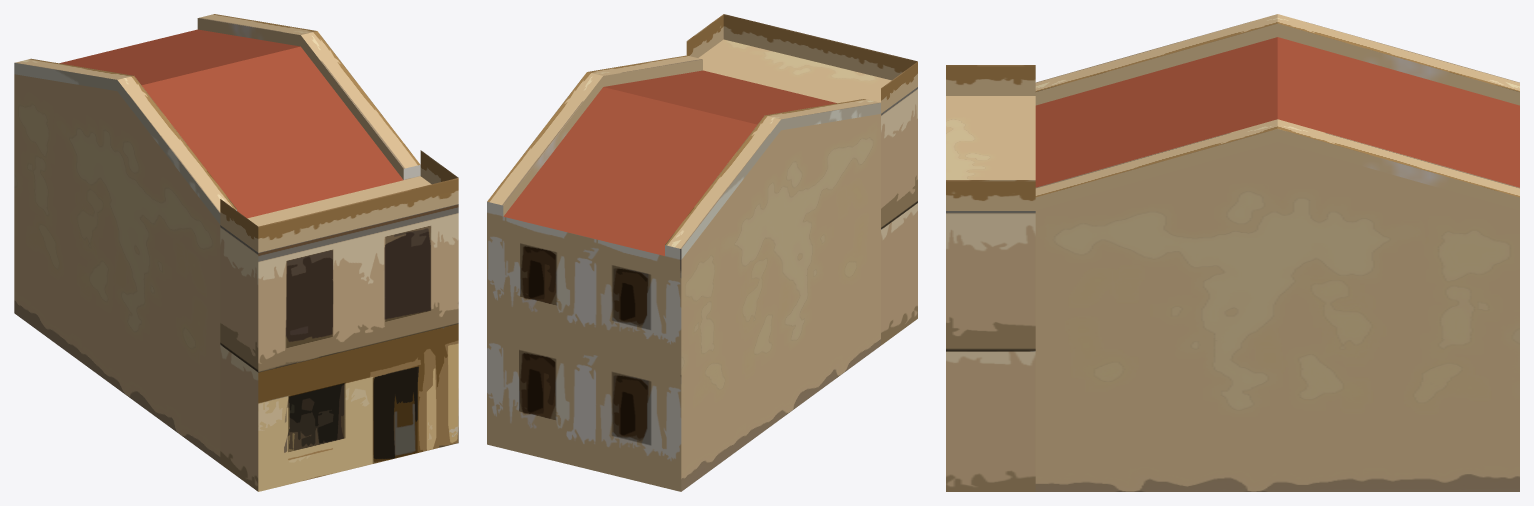
The model's file is SM_Building_Large_07.fbx.
The picture shows the model from 3 angles, left to right: view 1: azimuth 30°, elevation 25°; view 2: azimuth 150°, elevation 25°; view 3: azimuth 270°, elevation 25°; orthographic projection. The views are drawn at different scales.
Visible parts, largest first — view 1: SM_Building_Large_07_LOD0; view 2: SM_Building_Large_07_LOD0; view 3: SM_Building_Large_07_LOD0.
Part boxes in pixels (x1,y1,x2,y2): SM_Building_Large_07_LOD0: (14, 14, 458, 491); SM_Building_Large_07_LOD0: (487, 14, 917, 491); SM_Building_Large_07_LOD0: (946, 14, 1519, 491).
Size of what is drawn, in the model's own units: 6.07 by 8.95 by 12.82.
